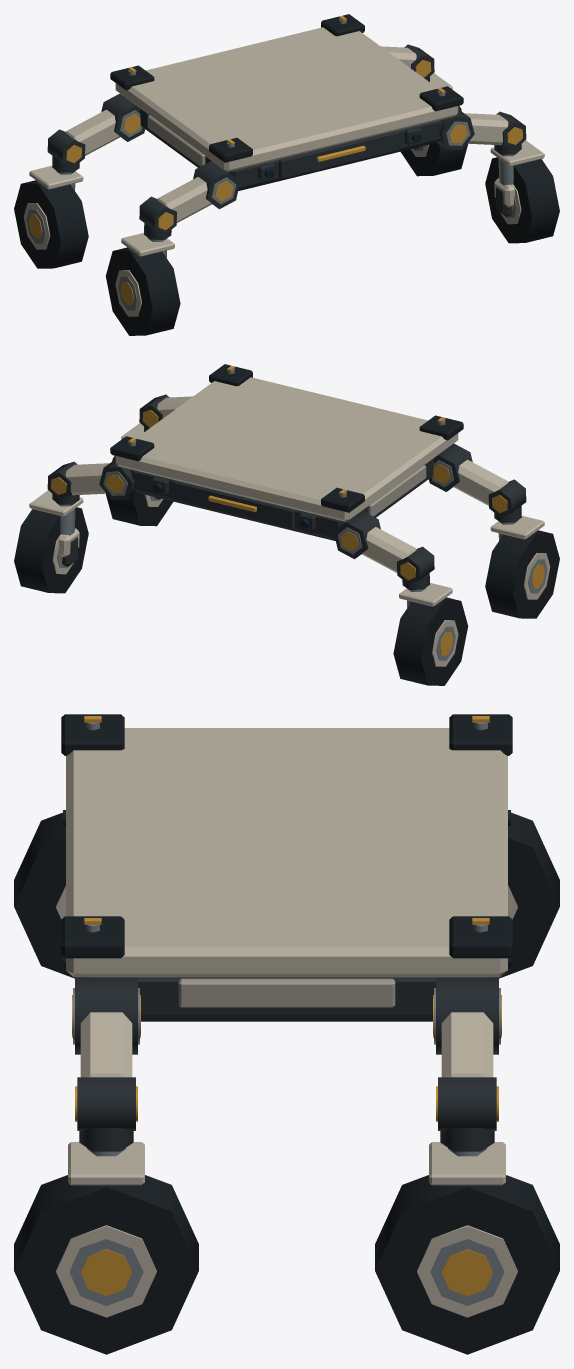
Rendered from stride_d0_lod2.meshopt.glb.
The picture shows the model from 3 angles, top to bottom: view 1: azimuth 30°, elevation 25°; view 2: azimuth 150°, elevation 25°; view 3: azimuth 270°, elevation 25°; orthographic projection. The views are drawn at different scales.
Parts seen in each view (by area): view 1: STRIDE_STATIC_SURFACE; view 2: STRIDE_STATIC_SURFACE; view 3: STRIDE_STATIC_SURFACE.
Part boxes in pixels (bbox=[...]): STRIDE_STATIC_SURFACE: bbox=[14, 14, 559, 335]; STRIDE_STATIC_SURFACE: bbox=[14, 364, 559, 685]; STRIDE_STATIC_SURFACE: bbox=[14, 714, 559, 1354].
Size of the model in its own units: 2.07 by 0.833 by 1.21.
